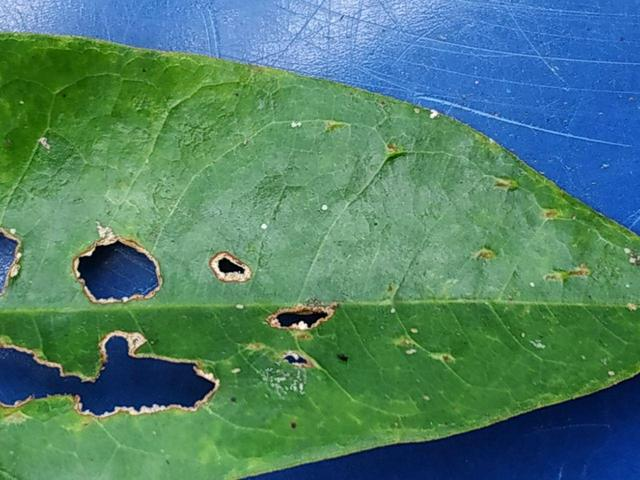blight spot: (1, 328, 222, 435), (65, 213, 173, 313), (259, 287, 366, 384), (210, 240, 259, 296), (1, 213, 30, 305)
